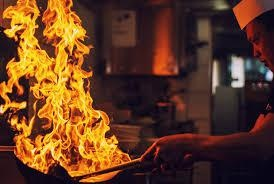fire: (0, 0, 123, 176), (153, 7, 176, 74)
